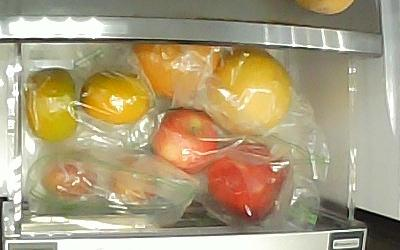apple_vinyl: (206, 141, 291, 225), (150, 108, 220, 176)
grapefruit_vinyl: (203, 48, 292, 136), (130, 43, 221, 100)
persimmon_vinyl: (80, 70, 154, 126), (25, 67, 79, 142)
prune_vinyl: (111, 155, 159, 201), (42, 161, 97, 201)
